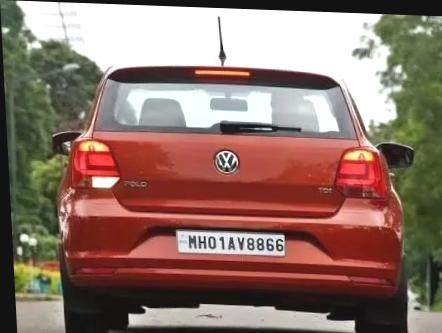License_Plate: (168, 221, 289, 257)
